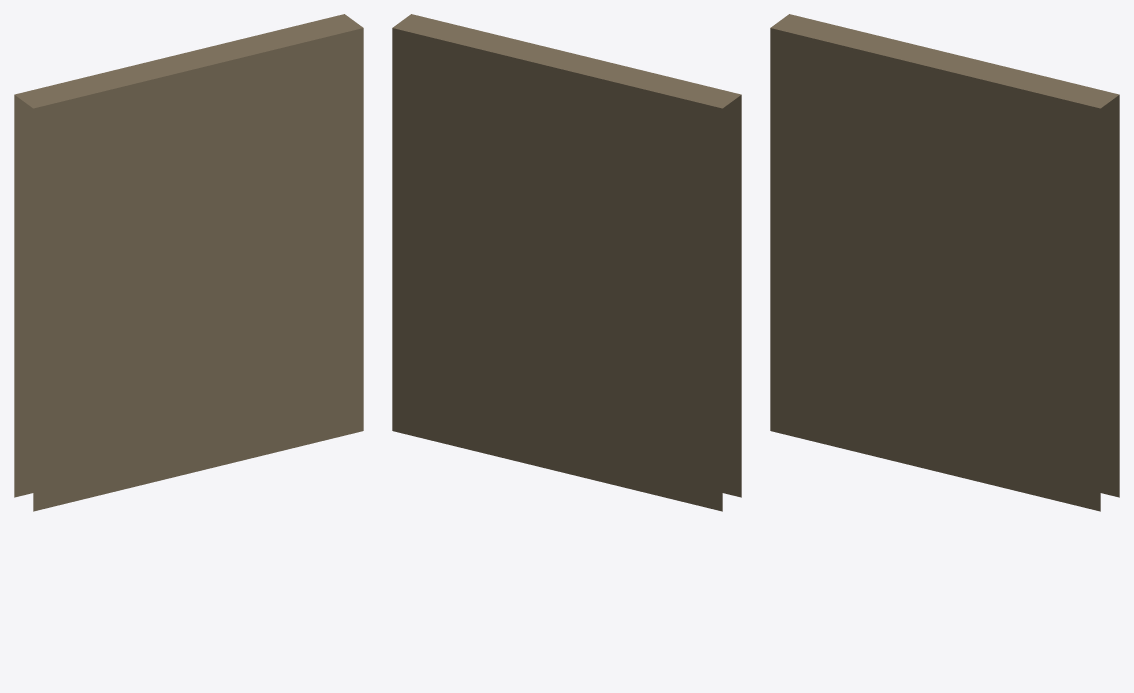
File: SM_Wall_200.fbx
The picture shows the model from 3 angles, left to right: view 1: azimuth 30°, elevation 25°; view 2: azimuth 150°, elevation 25°; view 3: azimuth 330°, elevation 25°; orthographic projection.
Parts seen in each view (by area): view 1: SM_Wall_200; view 2: SM_Wall_200; view 3: SM_Wall_200.
Part boxes in pixels (x1=…): SM_Wall_200: x1=14, y1=14, x2=363, y2=511; SM_Wall_200: x1=392, y1=14, x2=741, y2=511; SM_Wall_200: x1=770, y1=14, x2=1119, y2=511.
Size of the model in its own units: 200 by 330 by 20.
Materials: 3 (3 with a texture image).
